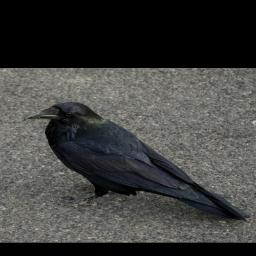Crow: (23, 102, 251, 222)
